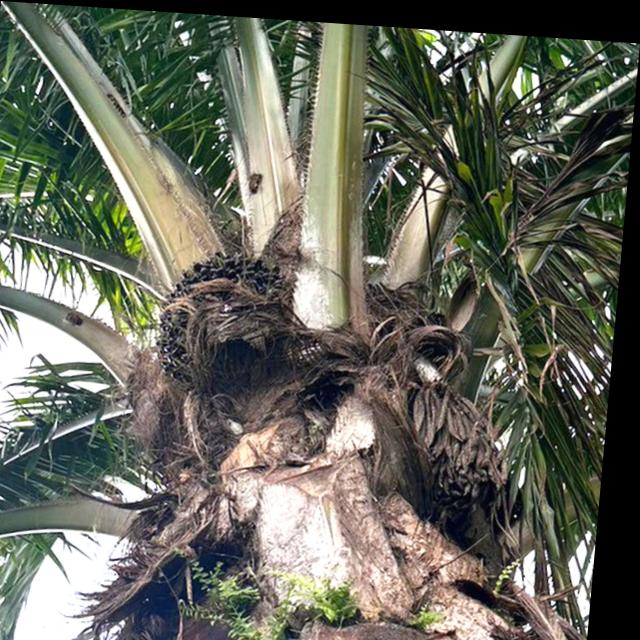unripe: (148, 233, 307, 401)
